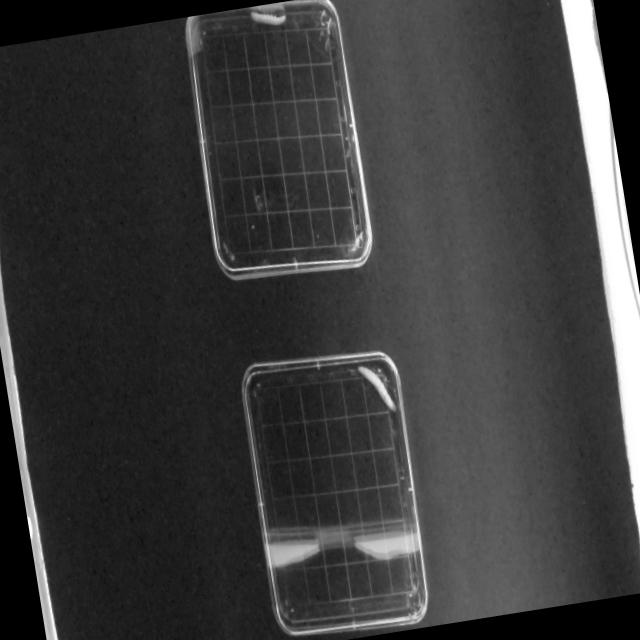larva: (358, 358, 396, 418), (249, 5, 289, 37)
